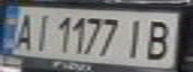1: (51, 12, 72, 53), (66, 14, 87, 54)
7: (100, 15, 124, 57), (84, 13, 106, 55)
A: (9, 9, 39, 52)
B: (139, 16, 181, 62)
I: (121, 16, 151, 61), (27, 10, 54, 52)
